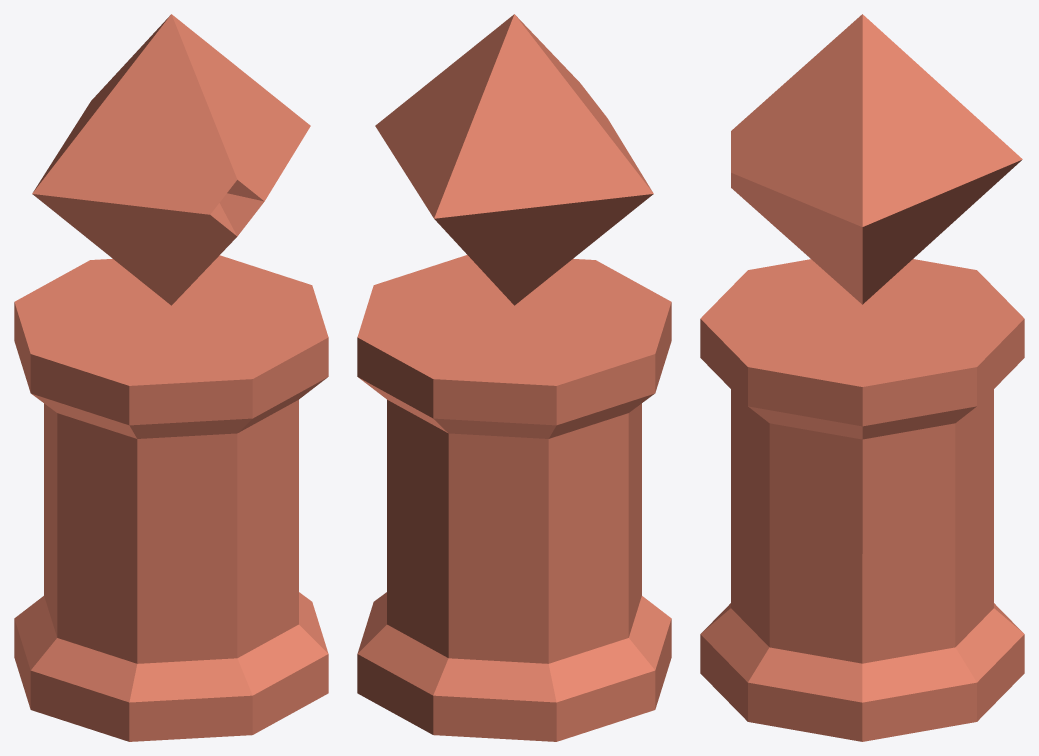
File: Turret.fbx
3 renders of one model, left to right at view 1: azimuth 30°, elevation 25°; view 2: azimuth 150°, elevation 25°; view 3: azimuth 270°, elevation 25°, orthographic.
Visible parts, largest first — view 1: TurretBase, Turret; view 2: TurretBase, Turret; view 3: TurretBase, Turret.
Part boxes in pixels (x1,y1,x2,y2): TurretBase: (14,255,328,741); Turret: (32,14,310,305); TurretBase: (357,255,671,741); Turret: (375,14,653,305); TurretBase: (700,259,1024,741); Turret: (731,14,1022,304).
Bounding box in the file's own units: 2 × 4.49 × 2.
